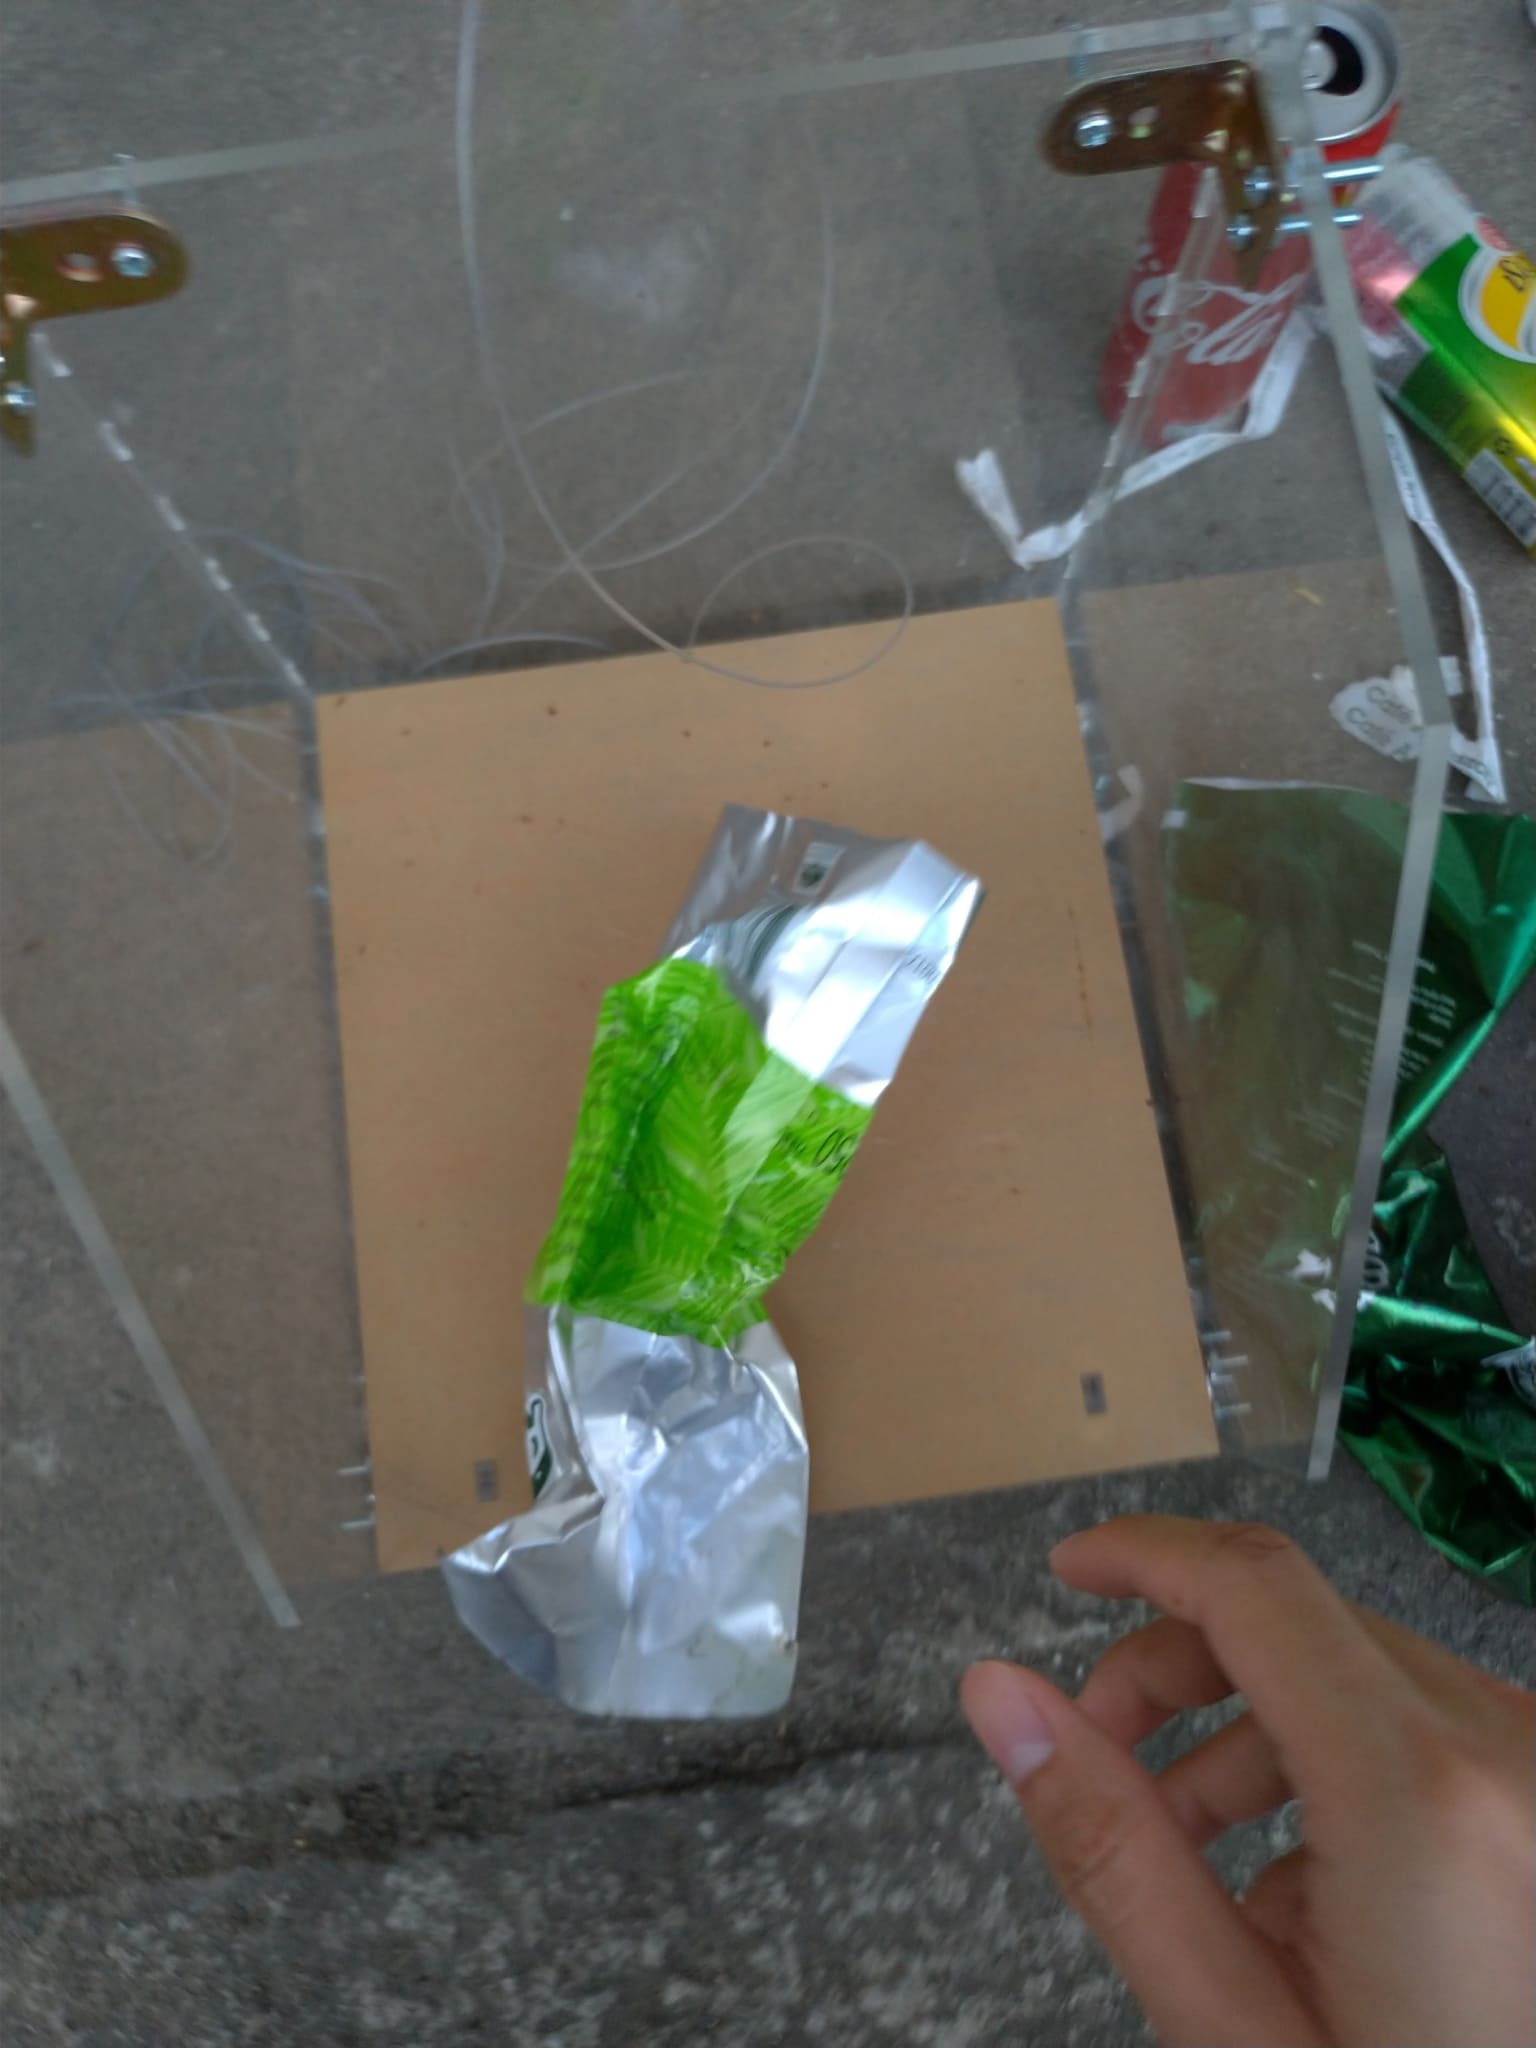AlCan: (1094, 31, 1404, 468), (1338, 152, 1536, 535)
Others: (444, 805, 979, 1722), (1160, 769, 1533, 1577), (957, 298, 1334, 561), (1334, 342, 1504, 785)
